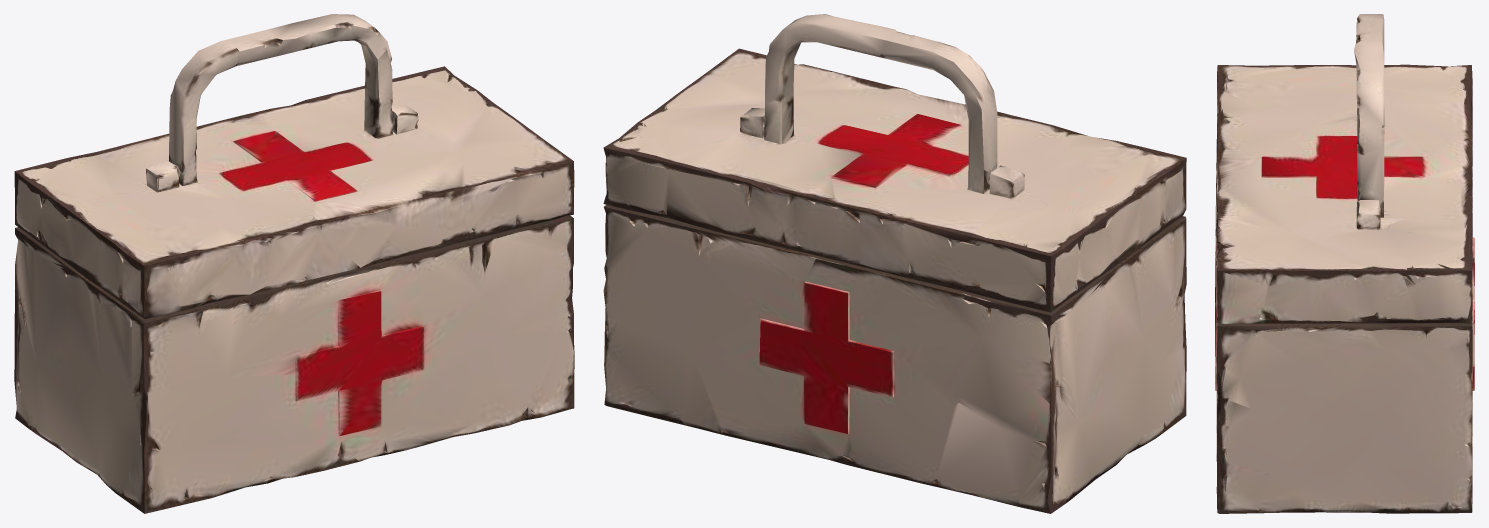
File: first_aid_kit_domashnyaya_idle.glb
3 renders of one model, left to right at view 1: azimuth 30°, elevation 25°; view 2: azimuth 150°, elevation 25°; view 3: azimuth 270°, elevation 25°, orthographic. The views are drawn at different scales.
Parts seen in each view (by area): view 1: tripo_node_2face7e9-8d45-47c3-b7d0-d907869542f9; view 2: tripo_node_2face7e9-8d45-47c3-b7d0-d907869542f9; view 3: tripo_node_2face7e9-8d45-47c3-b7d0-d907869542f9.
Boxes of the visible parts, x1,y1,x2,y2 form: tripo_node_2face7e9-8d45-47c3-b7d0-d907869542f9: (14,14,574,513); tripo_node_2face7e9-8d45-47c3-b7d0-d907869542f9: (603,14,1186,513); tripo_node_2face7e9-8d45-47c3-b7d0-d907869542f9: (1215,14,1474,513).
Size of the model in its own units: 0.2191 by 0.1799 by 0.1159.
Materials: 1 (1 with a texture image).
